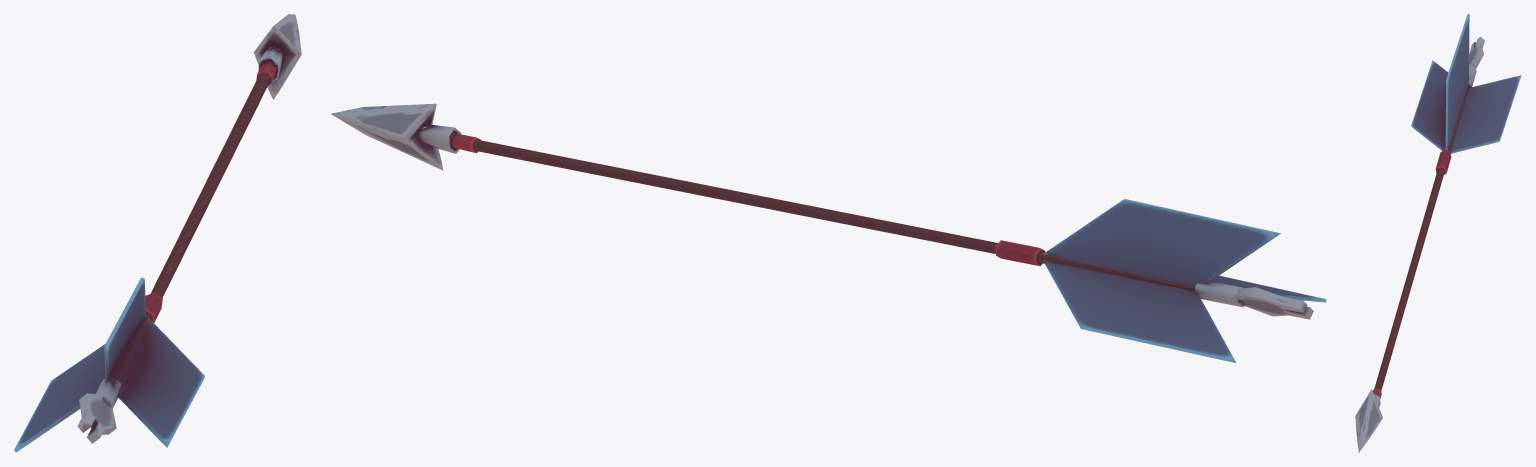
Rendered from Link_Arrow.fbx.
The picture shows the model from 3 angles, left to right: view 1: azimuth 90°, elevation 25°; view 2: azimuth 150°, elevation 25°; view 3: azimuth 270°, elevation 25°; orthographic projection. The views are drawn at different scales.
Visible parts, largest first — view 1: Arrow_Arrow_0; view 2: Arrow_Arrow_0; view 3: Arrow_Arrow_0.
Part boxes in pixels (<box>): Arrow_Arrow_0: <box>14,14,301,452</box>; Arrow_Arrow_0: <box>331,103,1326,362</box>; Arrow_Arrow_0: <box>1355,14,1521,452</box>.
Size of the model in its own units: 0.5456 by 0.1055 by 0.1175.
